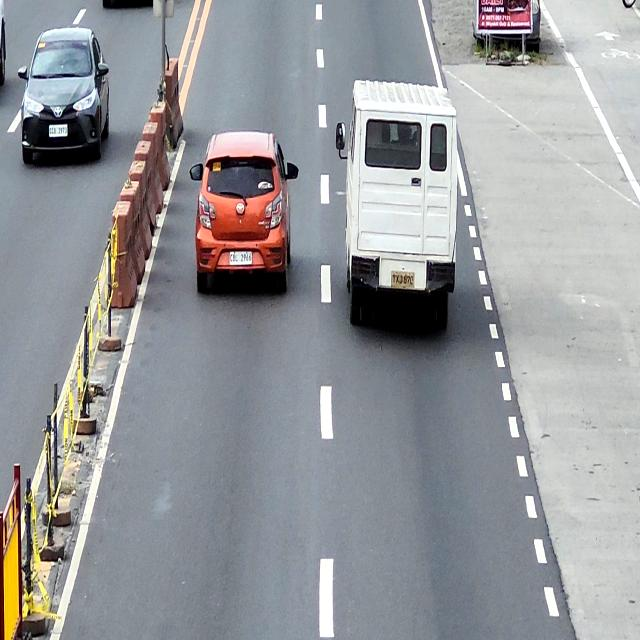Car: (336, 73, 458, 333), (190, 132, 299, 296), (18, 26, 112, 168)
License-Plate: (391, 270, 416, 289), (48, 123, 68, 138), (230, 252, 252, 265)
